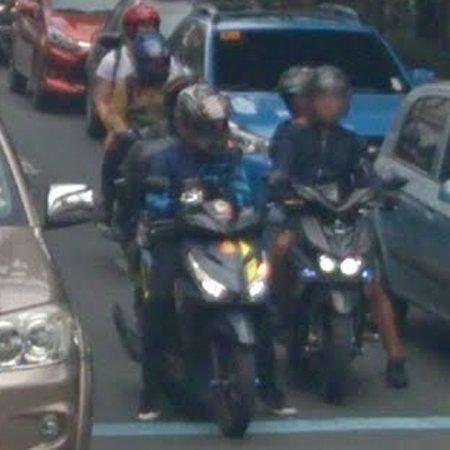motorcycles: (140, 199, 271, 437), (273, 183, 378, 405)
